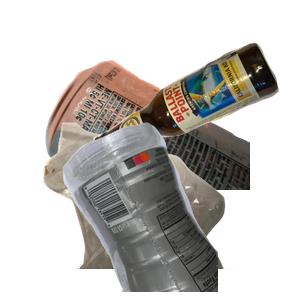glass: (91, 40, 300, 190)
metal: (43, 58, 283, 238)
plastic: (60, 120, 300, 300)
trash: (41, 120, 276, 300)
